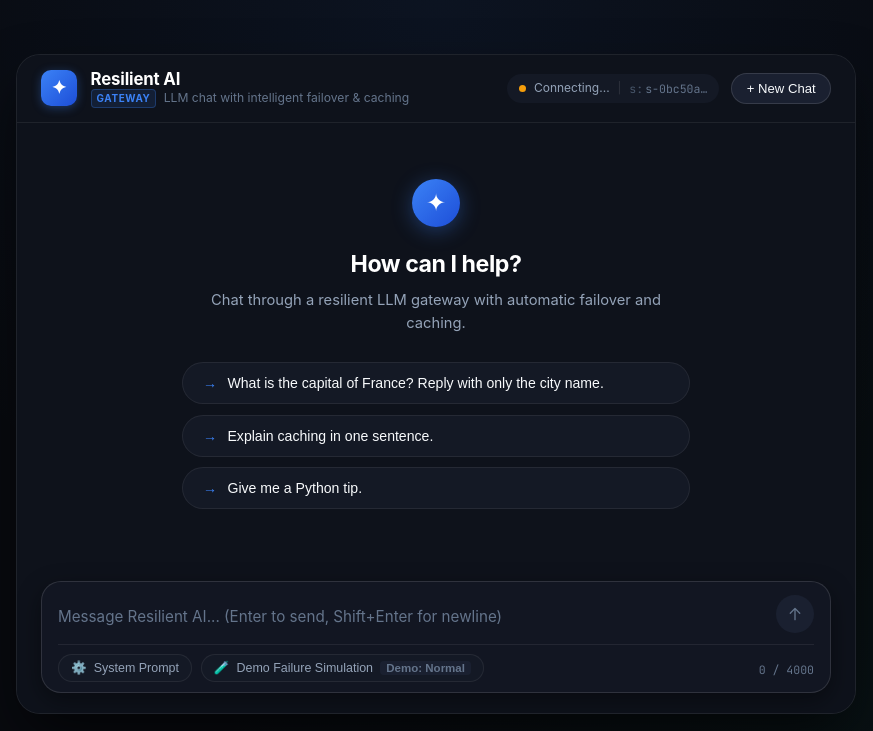
Resilient AI Frontend Component & Integration Tests › starts a new session and clears messages when "+ New Chat" is clicked
Replace the text in the text box with test id "chat-input" with "First message" at (411, 618), box [58,602,764,634]
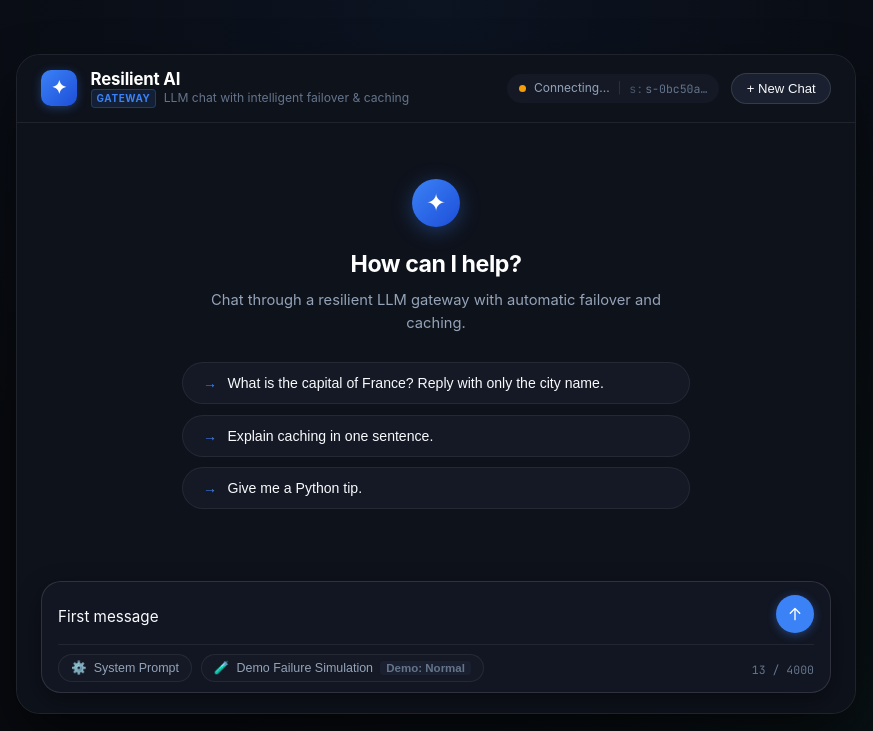
Click the button with test id "send-button".
click(795, 614)  # box [776,596,814,634]
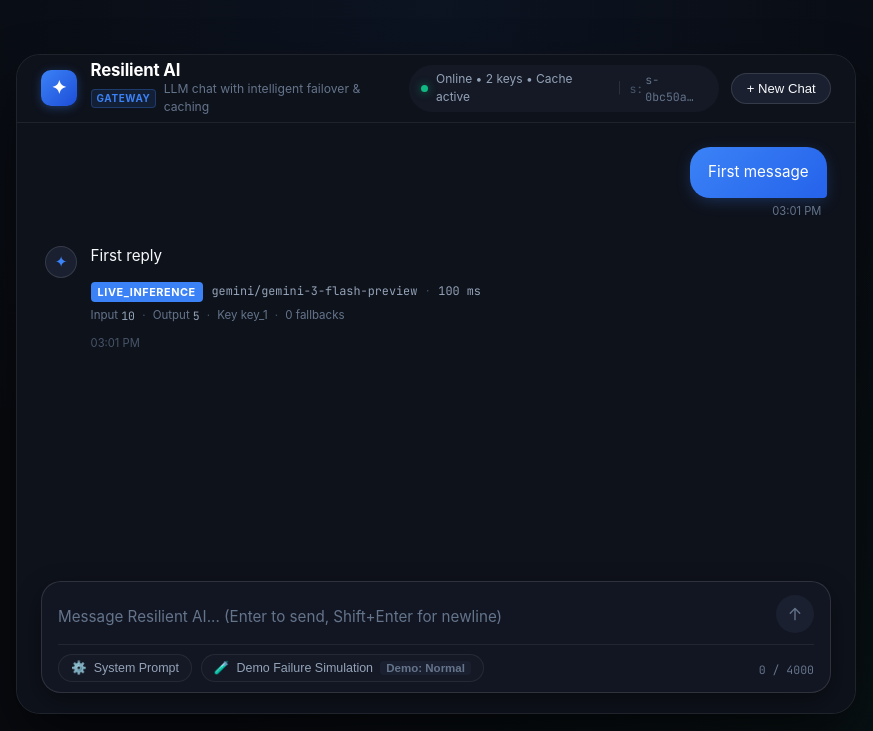
Expected: the text "First reply" is shown, [91,246,162,265]
// Click "+ New Chat"
Click the button "+ New Chat".
click(781, 88)  # box [731,73,831,104]
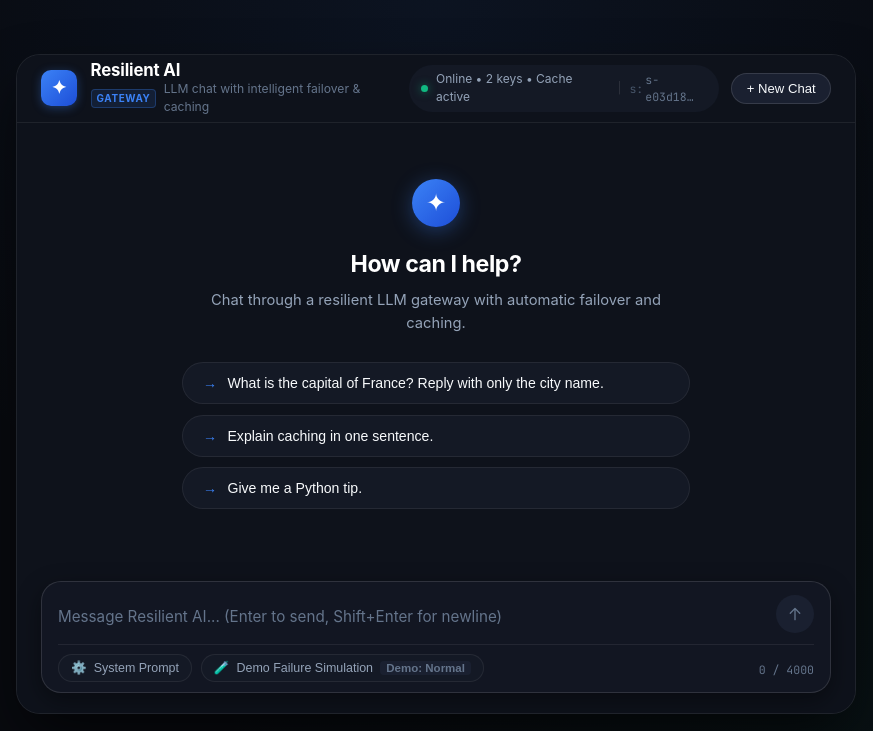
Expected: the text "First reply" is gone
Expected: the text "Chat through a resilient LLM gateway" is shown, [211,291,661,332]
